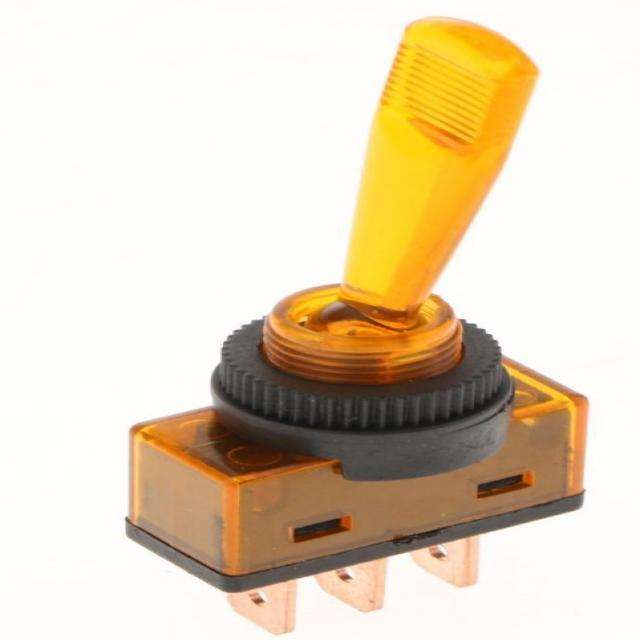toggle switch: (211, 16, 546, 433)
